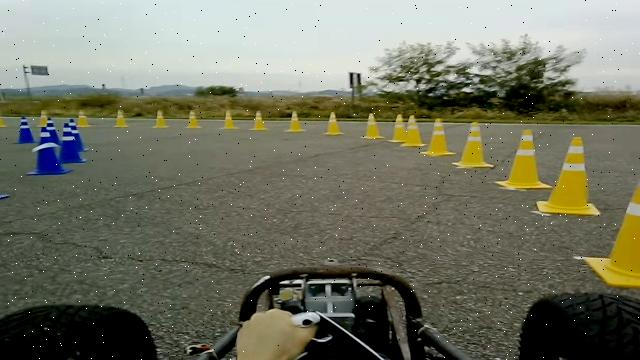blue cone: (25, 125, 72, 175), (54, 123, 94, 164), (61, 118, 88, 152), (37, 114, 60, 146), (13, 115, 35, 144), (0, 178, 10, 204)
yellow cone: (582, 166, 640, 288), (536, 136, 600, 216), (495, 128, 552, 190), (452, 121, 494, 168), (418, 117, 456, 156), (400, 115, 426, 147), (360, 112, 385, 139), (386, 114, 407, 142)
